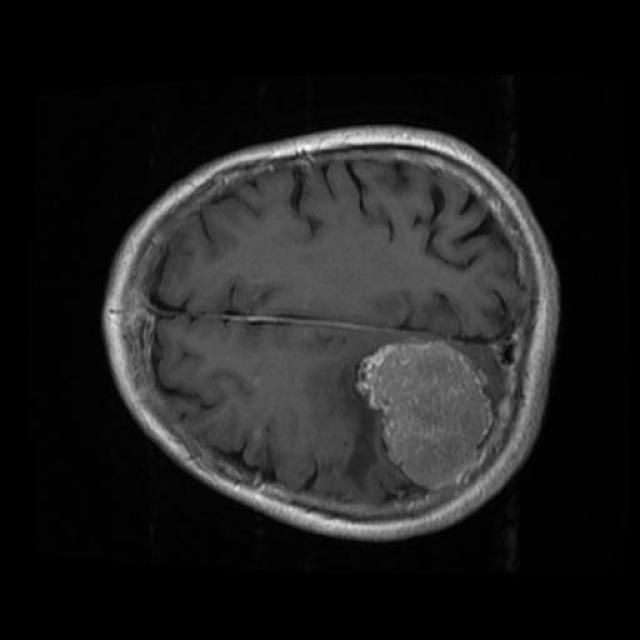Meningioma: (358, 341, 494, 490)
